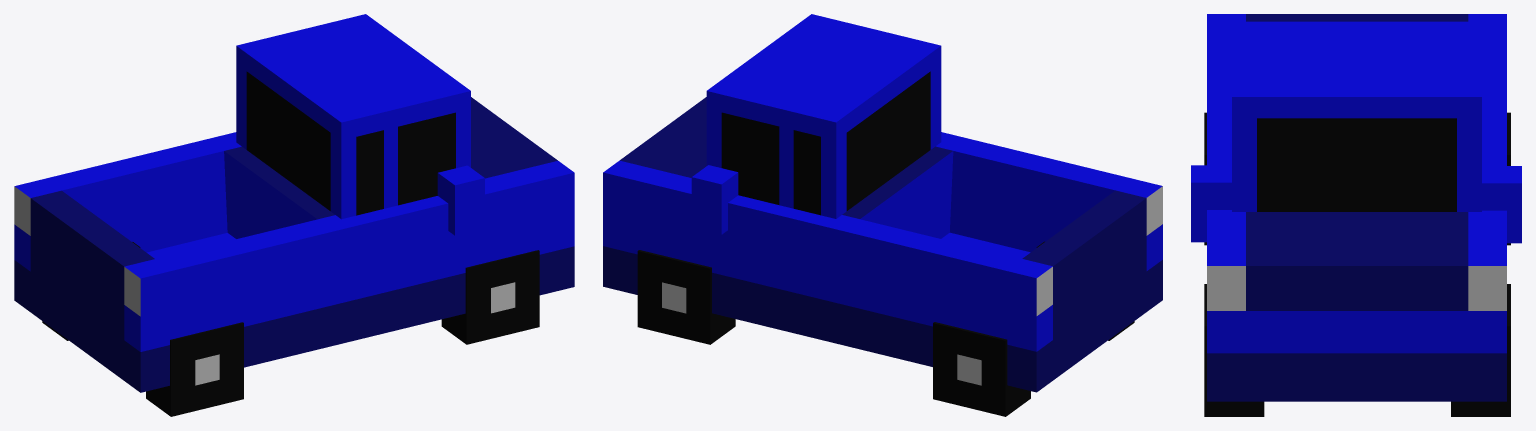
File: TruckBlue.fbx
3 renders of one model, left to right at view 1: azimuth 30°, elevation 25°; view 2: azimuth 150°, elevation 25°; view 3: azimuth 270°, elevation 25°, orthographic. The views are drawn at different scales.
Parts seen in each view (by area): view 1: Truck_copy:BlueTruck:pasted__pCube11; view 2: Truck_copy:BlueTruck:pasted__pCube11; view 3: Truck_copy:BlueTruck:pasted__pCube11.
Boxes of the visible parts, x1=… form: Truck_copy:BlueTruck:pasted__pCube11: x1=14, y1=14, x2=574, y2=416; Truck_copy:BlueTruck:pasted__pCube11: x1=603, y1=14, x2=1162, y2=416; Truck_copy:BlueTruck:pasted__pCube11: x1=1191, y1=14, x2=1521, y2=416.
Bounding box in the file's own units: 0.9035 × 0.4803 × 0.5014.
